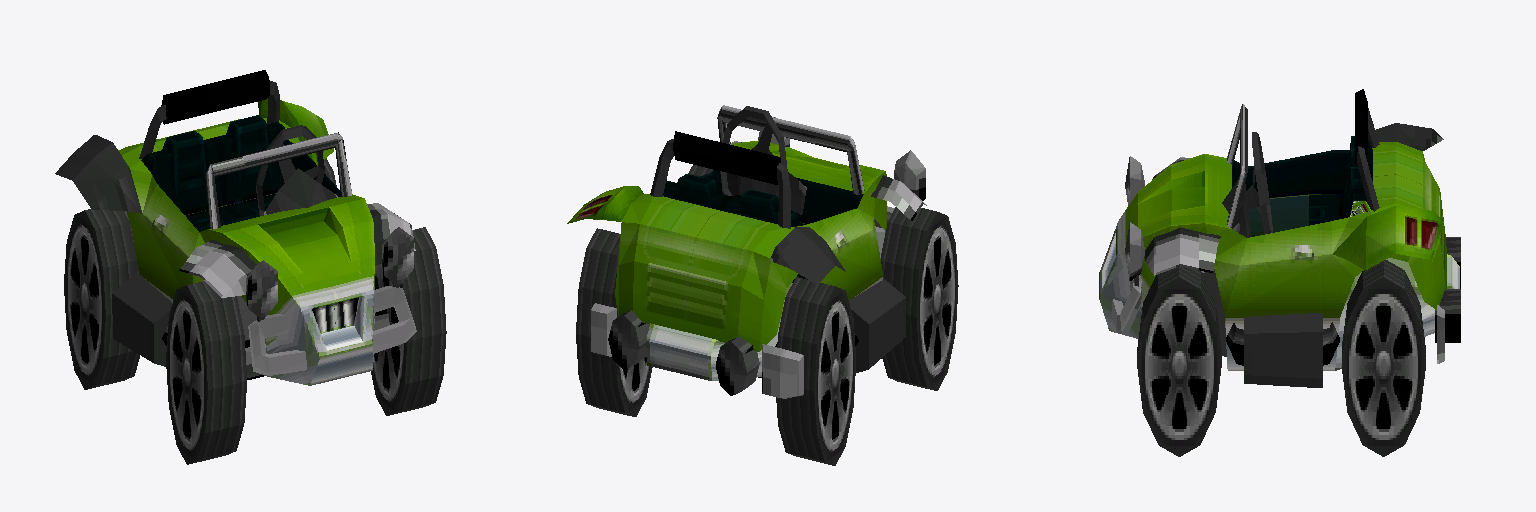
The picture shows the model from 3 angles: view 1: azimuth 30°, elevation 25°; view 2: azimuth 150°, elevation 25°; view 3: azimuth 270°, elevation 25°; orthographic projection.
Visible parts, largest first — view 1: Bandibuggy; view 2: Bandibuggy; view 3: Bandibuggy.
Part boxes in pixels (x1,y1,x2,y2): Bandibuggy: (55,70,446,464); Bandibuggy: (567,105,958,465); Bandibuggy: (1099,89,1460,456).
Size of the model in its own units: 9.24 by 10.07 by 11.52.
Materials: 2 (2 with a texture image).